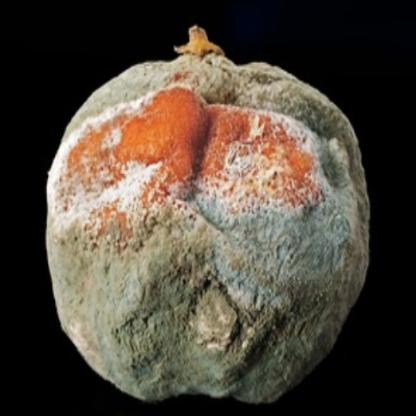rotten: (45, 31, 371, 394)
